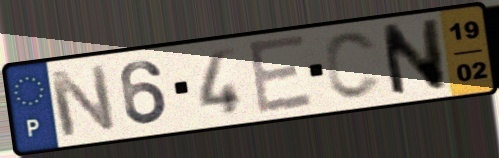4: (195, 46, 247, 118)
6: (117, 59, 170, 127)
C: (321, 29, 385, 102)
E: (244, 33, 317, 119)
N: (377, 15, 450, 101), (45, 63, 121, 140)
